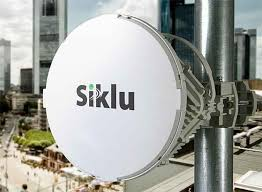ba: (45, 8, 195, 186)
